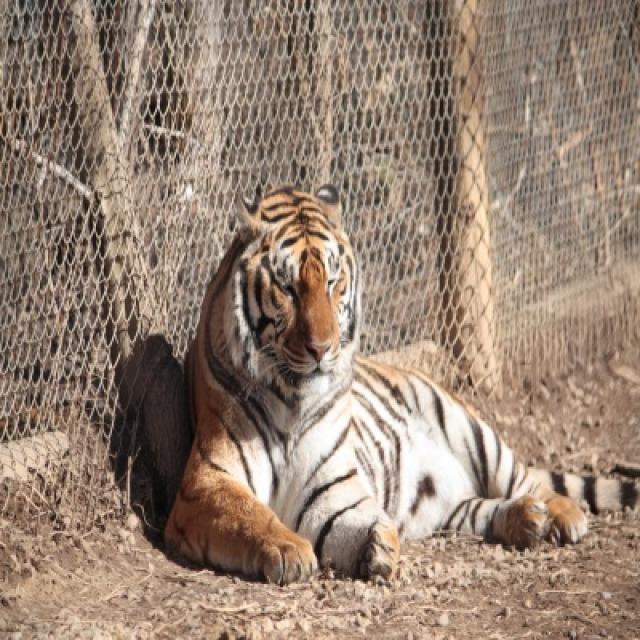Tiger: (167, 180, 638, 579)
